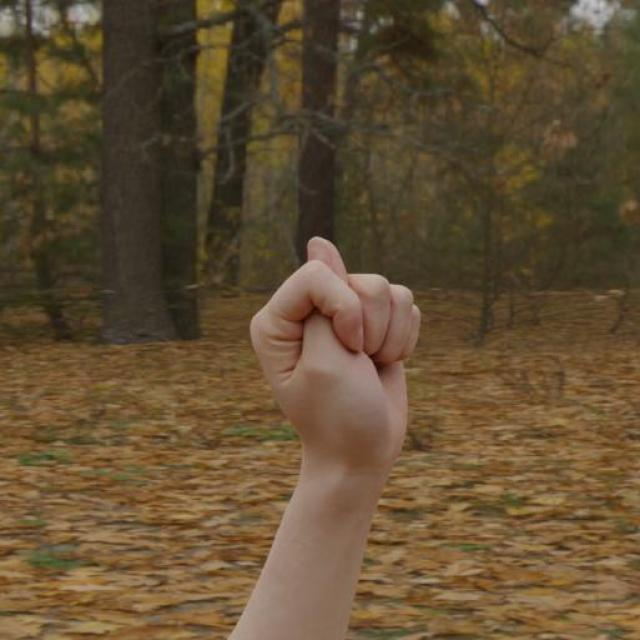T: (246, 233, 424, 482)
